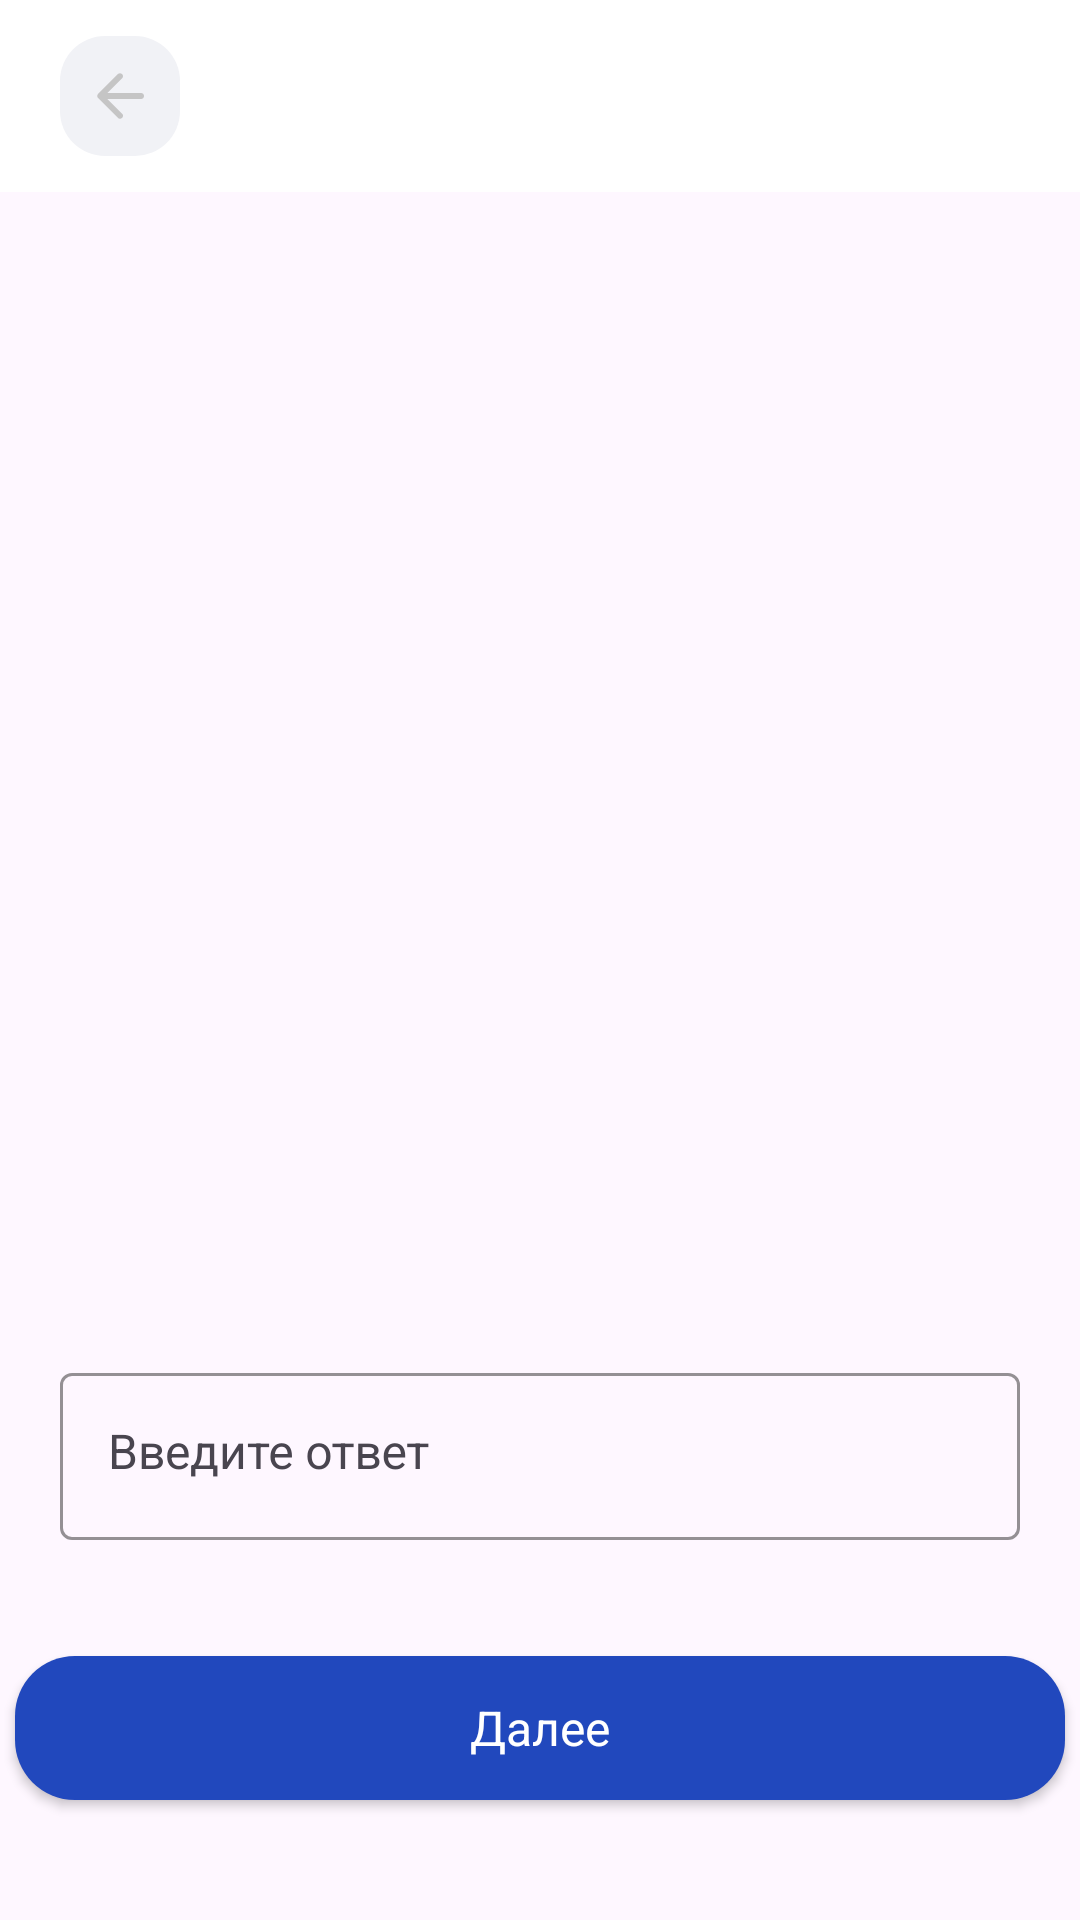

Icons on this 1080px x 1920px Android screen, each with the point to tap as [x,y]:
arrow back: [120,96]
